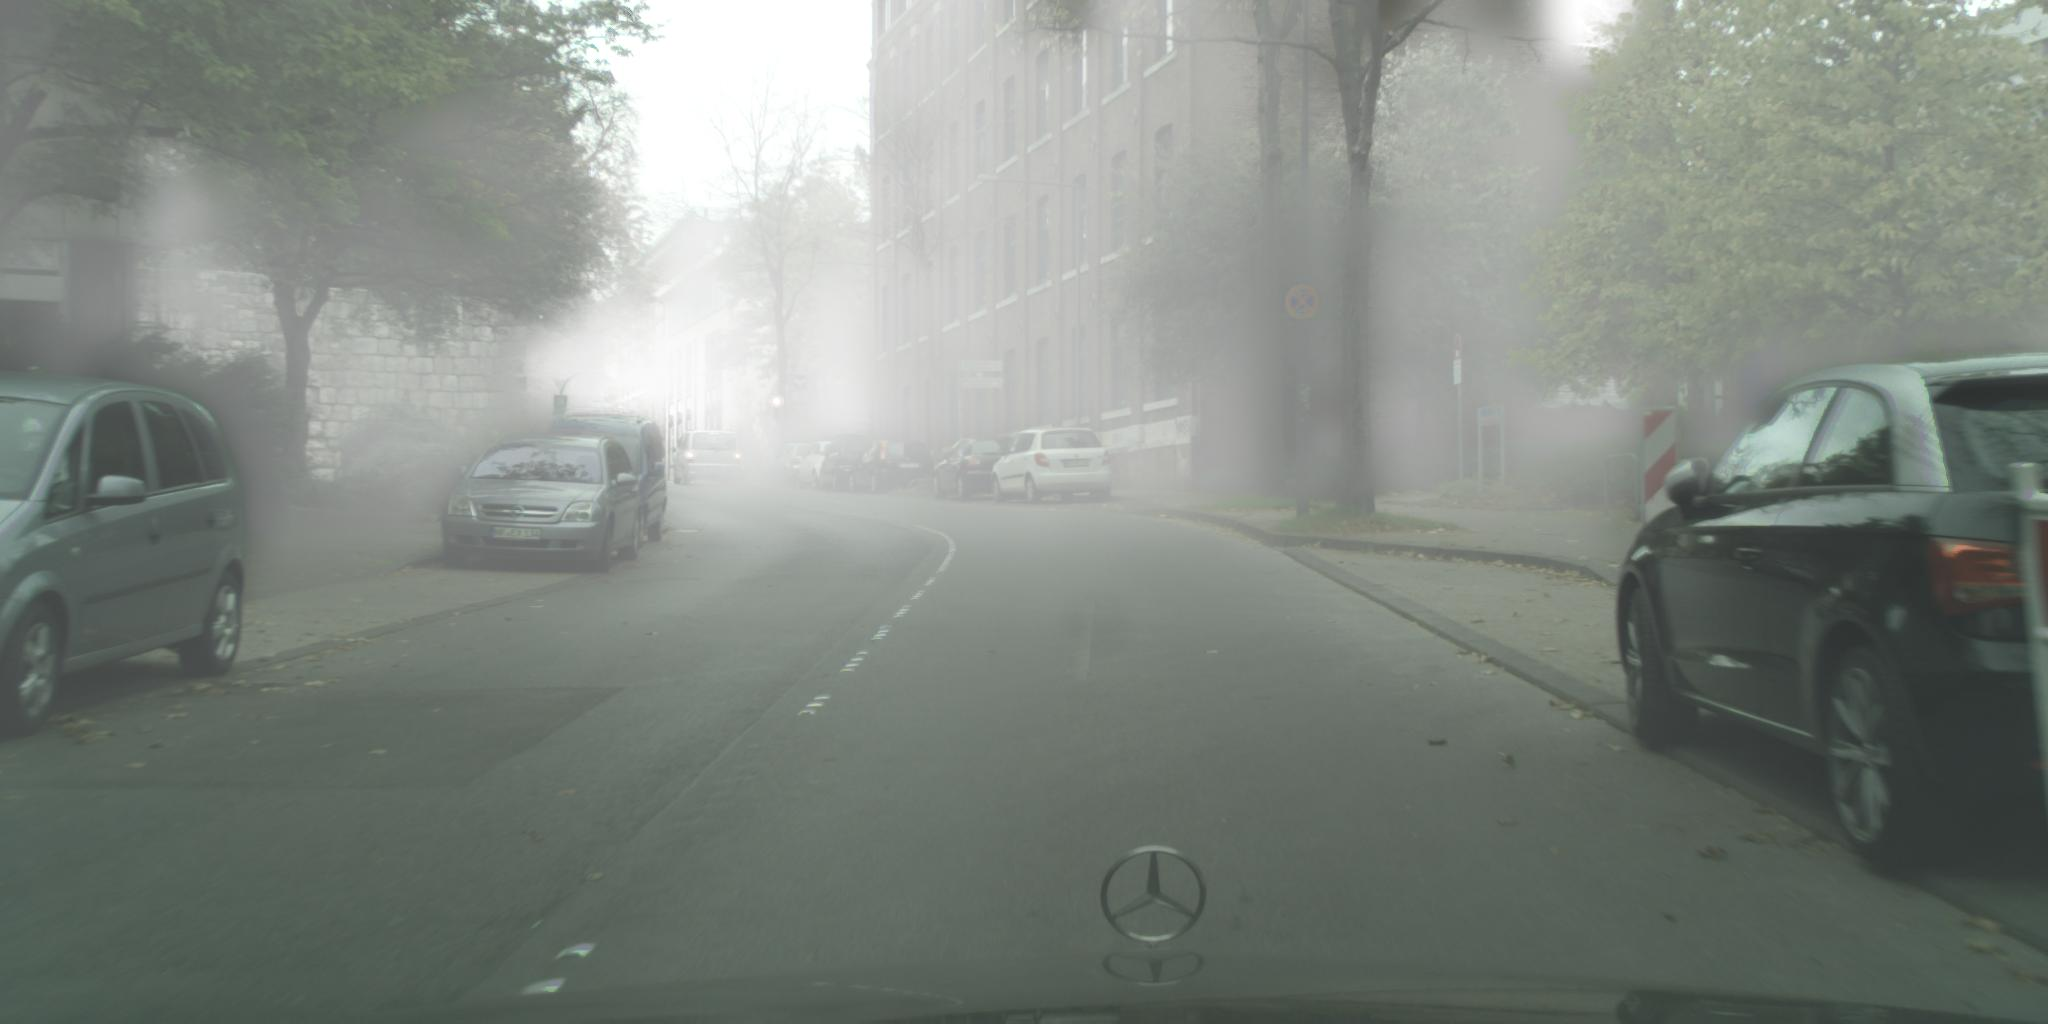car: (1614, 349, 2048, 872), (1, 372, 246, 741), (443, 432, 643, 575), (546, 408, 667, 551), (991, 427, 1112, 505), (933, 438, 1028, 503), (849, 439, 936, 494), (671, 430, 744, 487), (819, 436, 886, 492), (768, 443, 818, 488), (797, 441, 839, 490)
